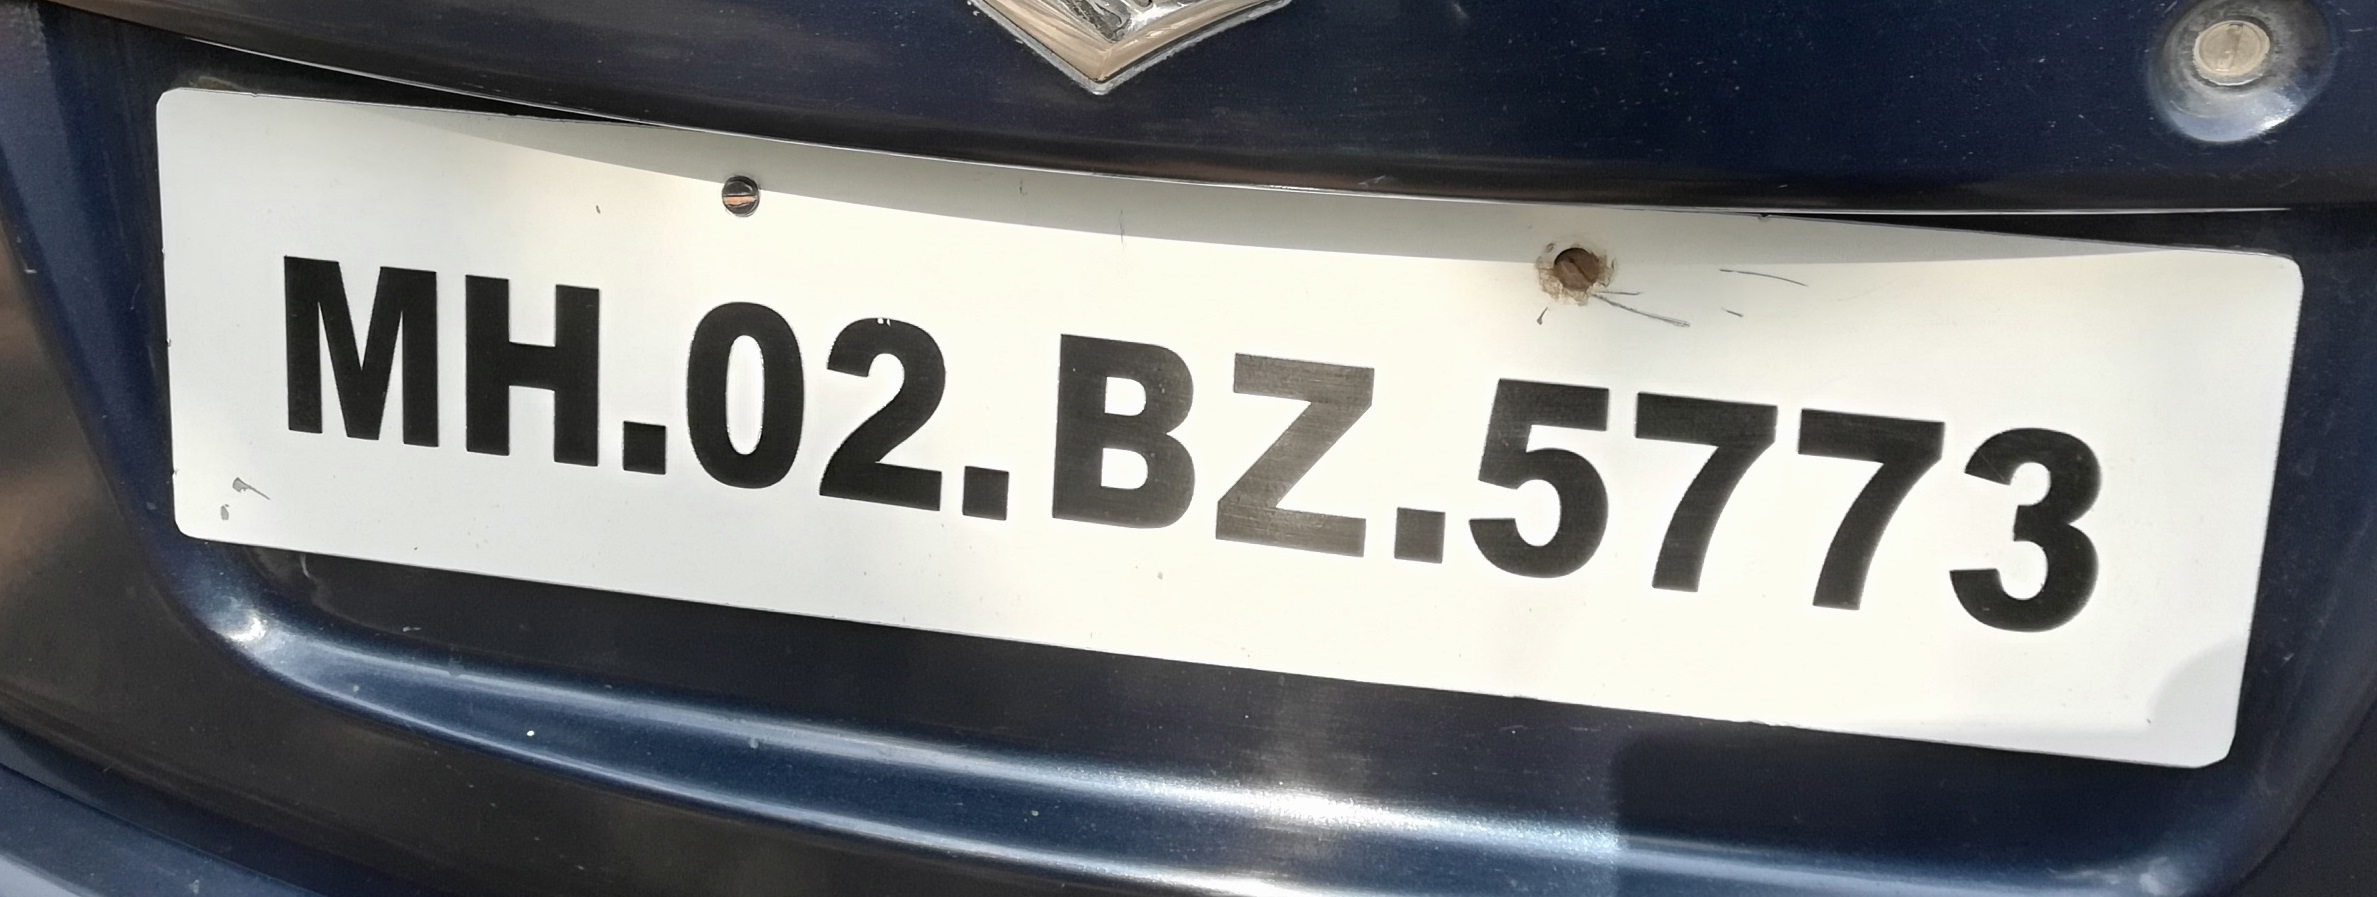numberplate: (145, 72, 2312, 772)
